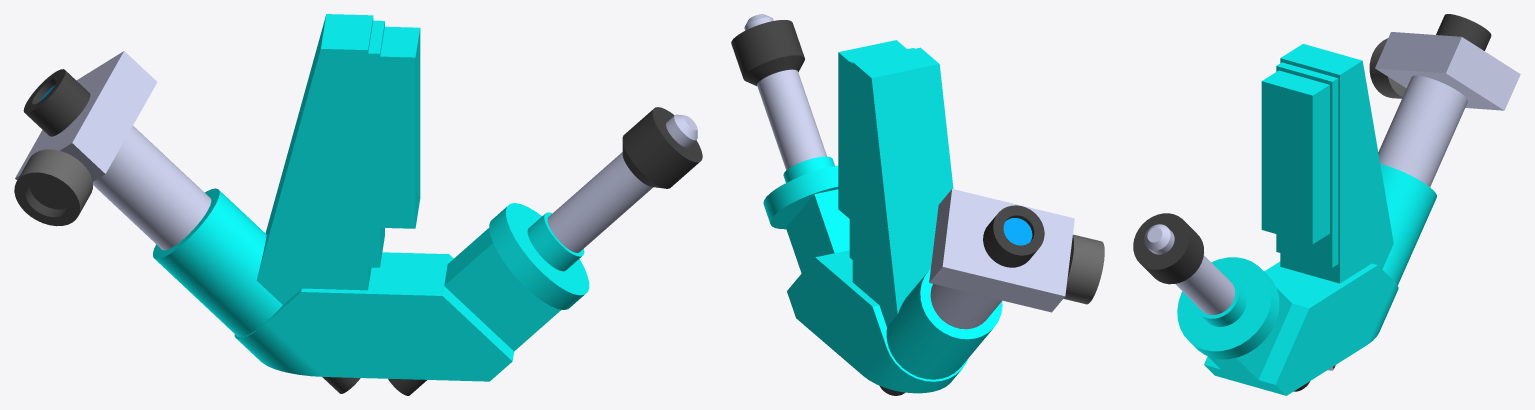
The model's file is slider.obj.
3 renders of one model, left to right at view 1: azimuth 30°, elevation 25°; view 2: azimuth 150°, elevation 25°; view 3: azimuth 270°, elevation 25°, orthographic. The views are drawn at different scales.
Parts seen in each view (by area): view 1: NONE_DC_Shell, 4_DC_Shell; view 2: NONE_DC_Shell, 4_DC_Shell; view 3: NONE_DC_Shell, 4_DC_Shell.
Boxes of the visible parts, x1=… form: NONE_DC_Shell: x1=14, y1=51, x2=702, y2=395; 4_DC_Shell: x1=153, y1=14, x2=420, y2=337; NONE_DC_Shell: x1=731, y1=14, x2=1104, y2=395; 4_DC_Shell: x1=838, y1=40, x2=1002, y2=379; NONE_DC_Shell: x1=1133, y1=14, x2=1520, y2=395; 4_DC_Shell: x1=1261, y1=44, x2=1436, y2=285.
Size of the model in its own units: 264 by 168 by 189.
